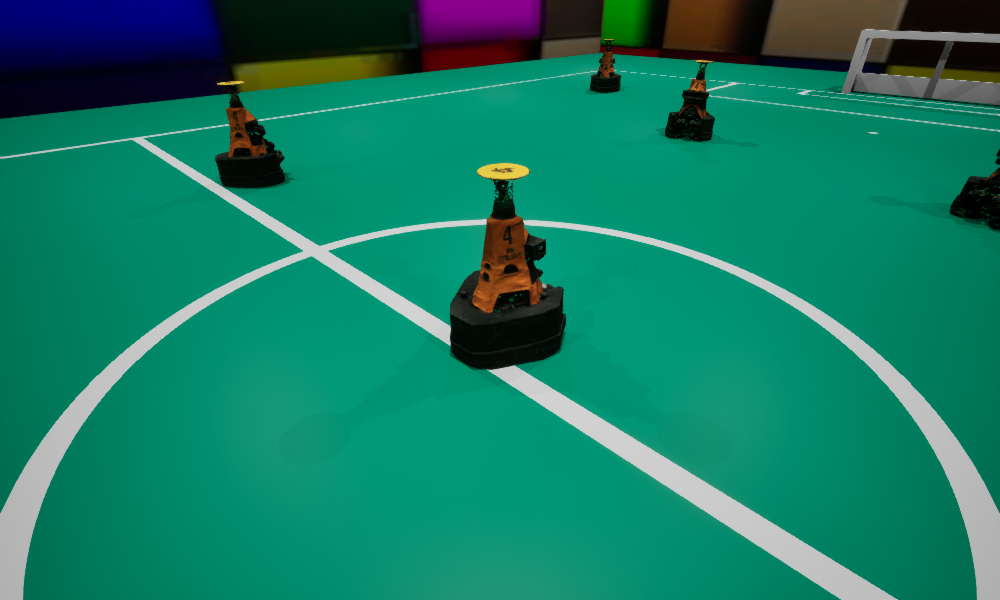o: (450, 163, 565, 369), (215, 81, 284, 187), (665, 60, 714, 140), (950, 149, 999, 228), (590, 39, 620, 92)
